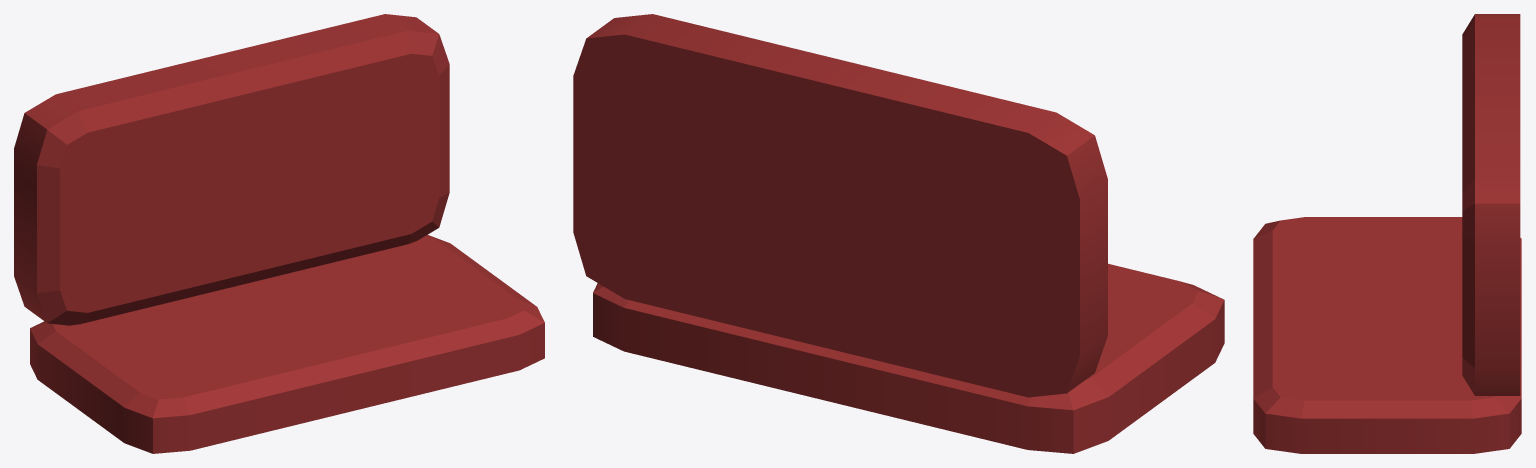
File: SM_pillow_06.fbx
3 renders of one model, left to right at view 1: azimuth 30°, elevation 25°; view 2: azimuth 150°, elevation 25°; view 3: azimuth 270°, elevation 25°, orthographic. The views are drawn at different scales.
Parts seen in each view (by area): view 1: Box006; view 2: Box006; view 3: Box006.
Part boxes in pixels (box(x1,y1,x2,y2)): Box006: box(14, 14, 544, 453); Box006: box(573, 14, 1224, 453); Box006: box(1253, 14, 1521, 453).
Bounding box in the file's own units: 47.53 × 26.95 × 28.38.
